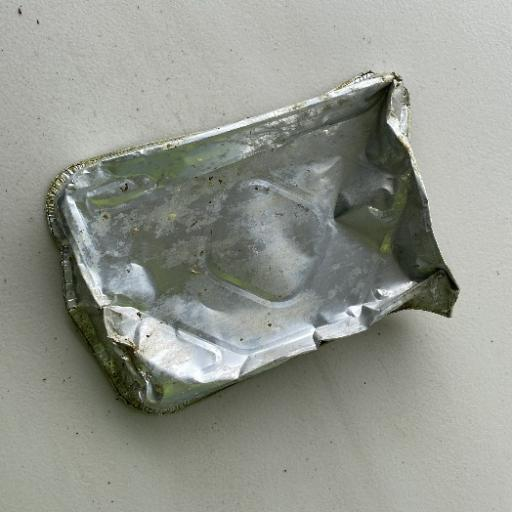Metal: (43, 68, 460, 416)
